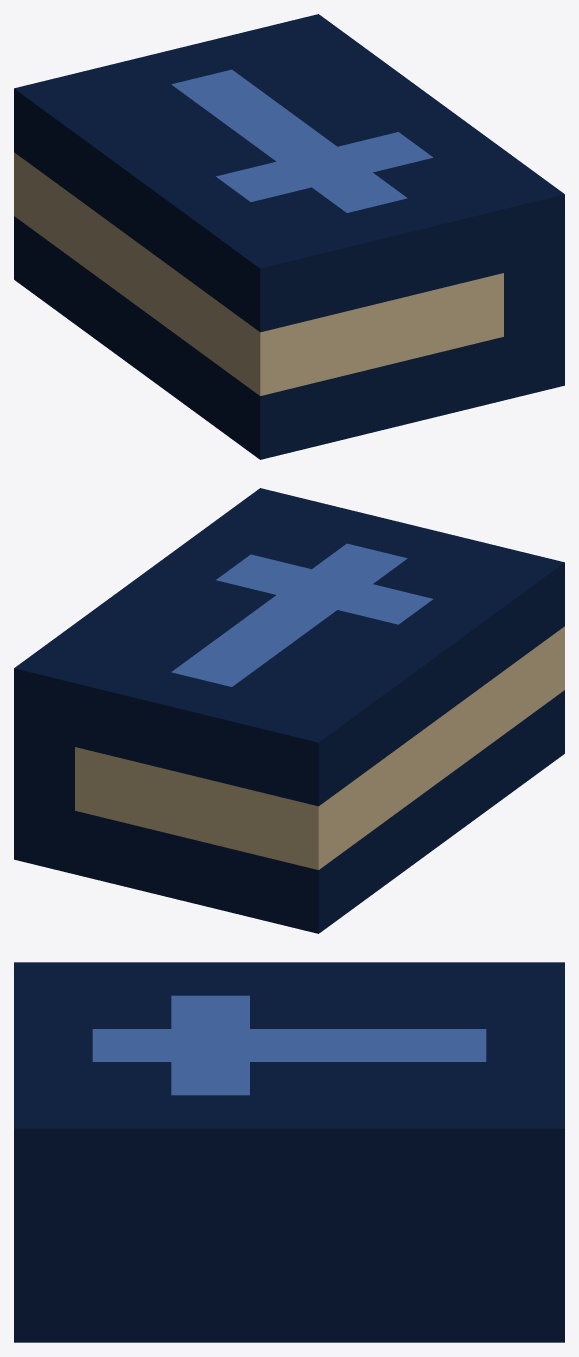
File: Biblia.obj
3 renders of one model, top to bottom at view 1: azimuth 30°, elevation 25°; view 2: azimuth 150°, elevation 25°; view 3: azimuth 270°, elevation 25°, orthographic. The views are drawn at different scales.
Size of the model in its own units: 0.5 by 0.3 by 0.7.
1 material, 1 textured.
